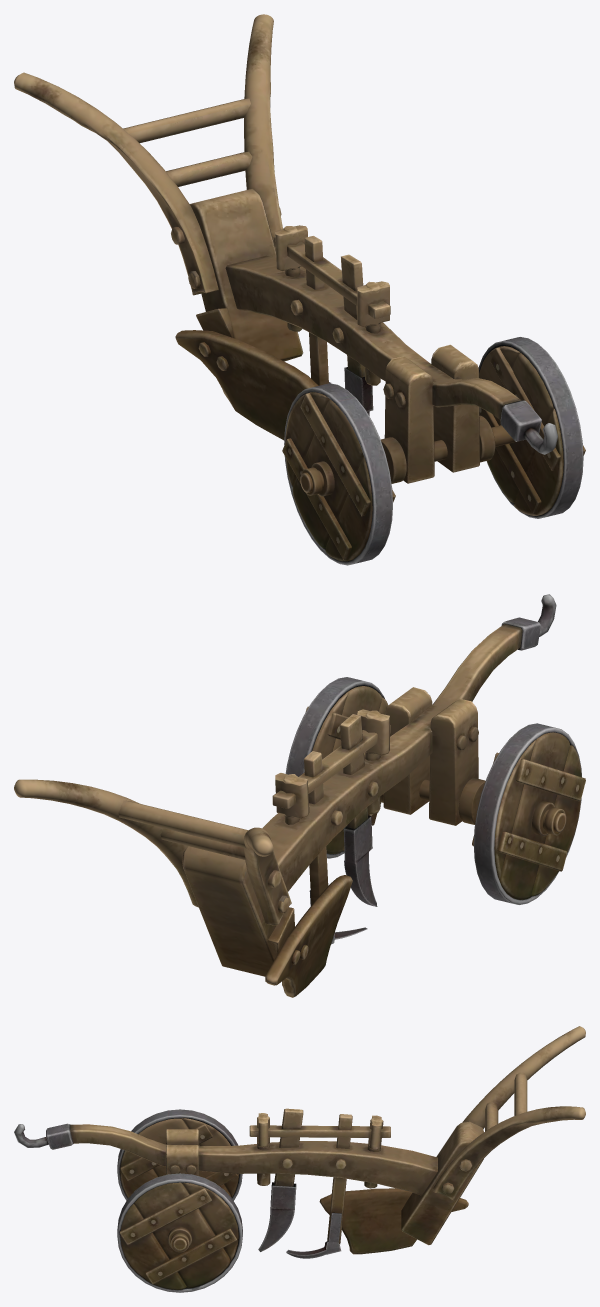
The model's file is plough.glb.
The picture shows the model from 3 angles, top to bottom: view 1: azimuth 30°, elevation 25°; view 2: azimuth 150°, elevation 25°; view 3: azimuth 270°, elevation 25°; orthographic projection. The views are drawn at different scales.
Visible parts, largest first — view 1: defaultMaterial; view 2: defaultMaterial; view 3: defaultMaterial.
Part boxes in pixels (box(x1,y1,x2,y2)): defaultMaterial: box(14, 14, 585, 565); defaultMaterial: box(14, 594, 585, 997); defaultMaterial: box(14, 1026, 585, 1292).
Bounding box in the file's own units: 0.4771 × 0.4881 × 1.32.
Materials: 1 (1 with a texture image).
